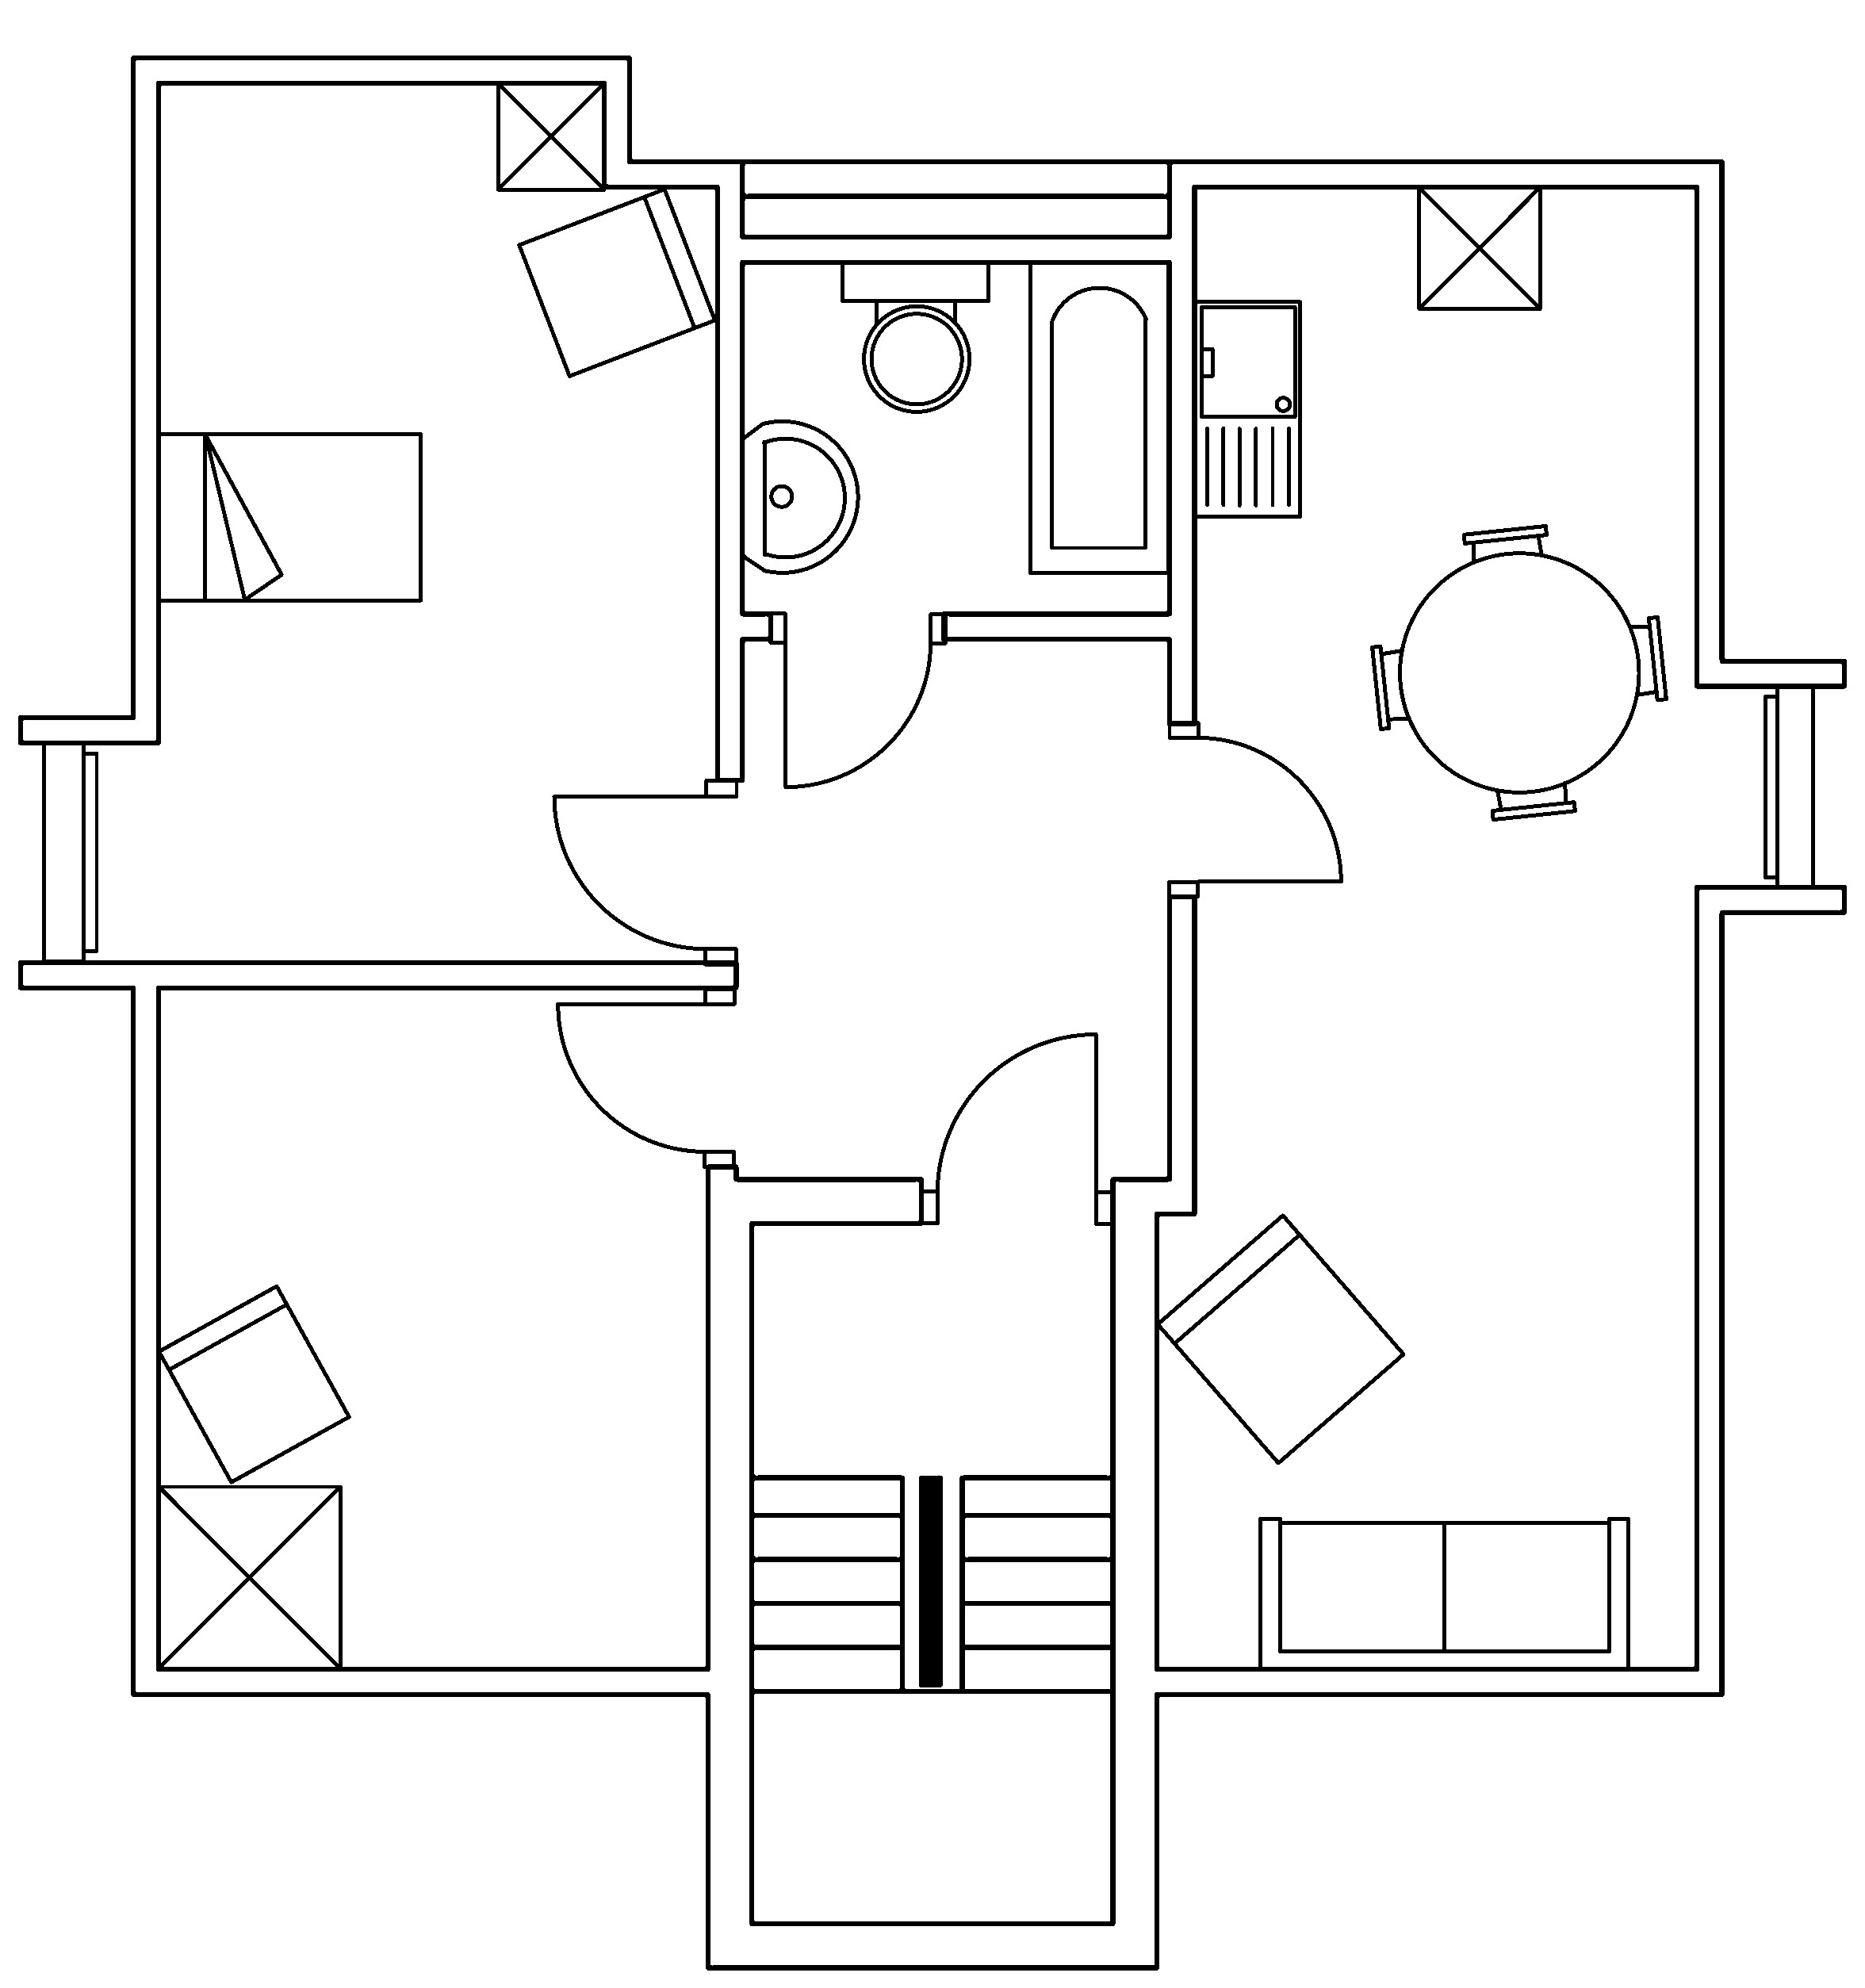bed: (154, 430, 424, 603)
coffee_table: (154, 1481, 342, 1671), (1416, 182, 1542, 310), (494, 79, 606, 191)
large_sink: (840, 258, 990, 412)
large_sofa: (1257, 1515, 1632, 1672)
round_table: (1369, 522, 1669, 822)
sink: (1192, 298, 1302, 519)
small_sink: (740, 419, 859, 573)
small_sofa: (1153, 1211, 1406, 1466), (156, 1282, 351, 1485), (515, 186, 717, 379)
tub: (1027, 258, 1171, 575)
